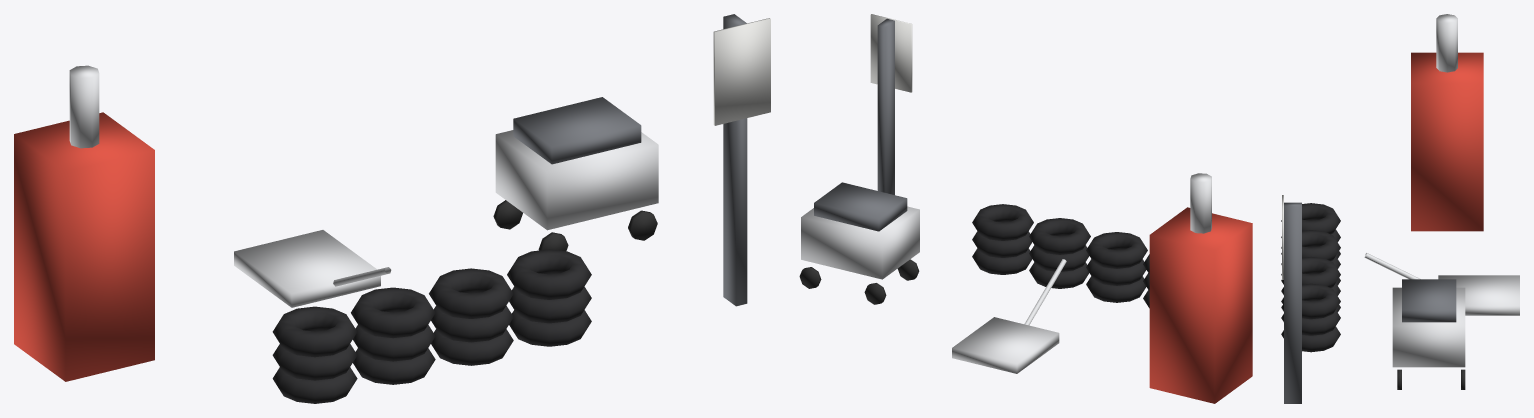
The model's file is box_kit.glb.
3 views of the same model, side by side, from view 1: azimuth 30°, elevation 25°; view 2: azimuth 150°, elevation 25°; view 3: azimuth 270°, elevation 25° (orthographic). The views are drawn at different scales.
Parts seen in each view (by area): view 1: box_kit; view 2: box_kit; view 3: box_kit.
Boxes of the visible parts, x1,y1,x2,y2 form: box_kit: (14, 14, 770, 403); box_kit: (799, 14, 1252, 403); box_kit: (1281, 14, 1519, 403).
Bounding box in the file's own units: 5.5 × 2.4 × 2.63.
